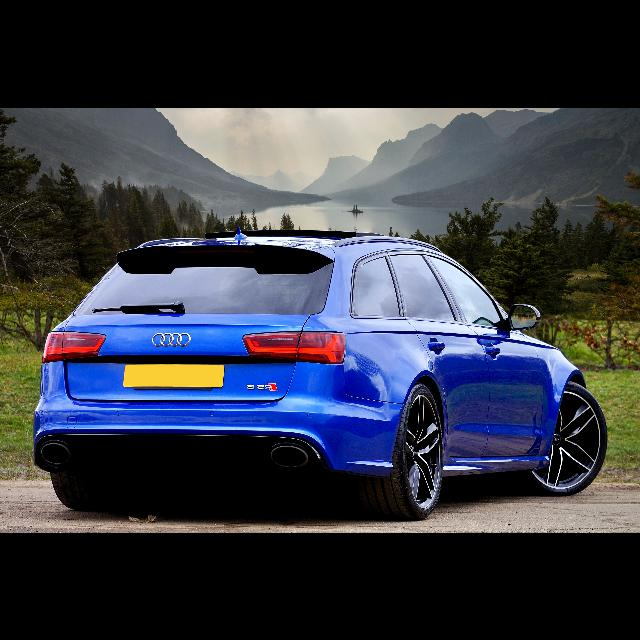cars: (27, 200, 613, 524)
